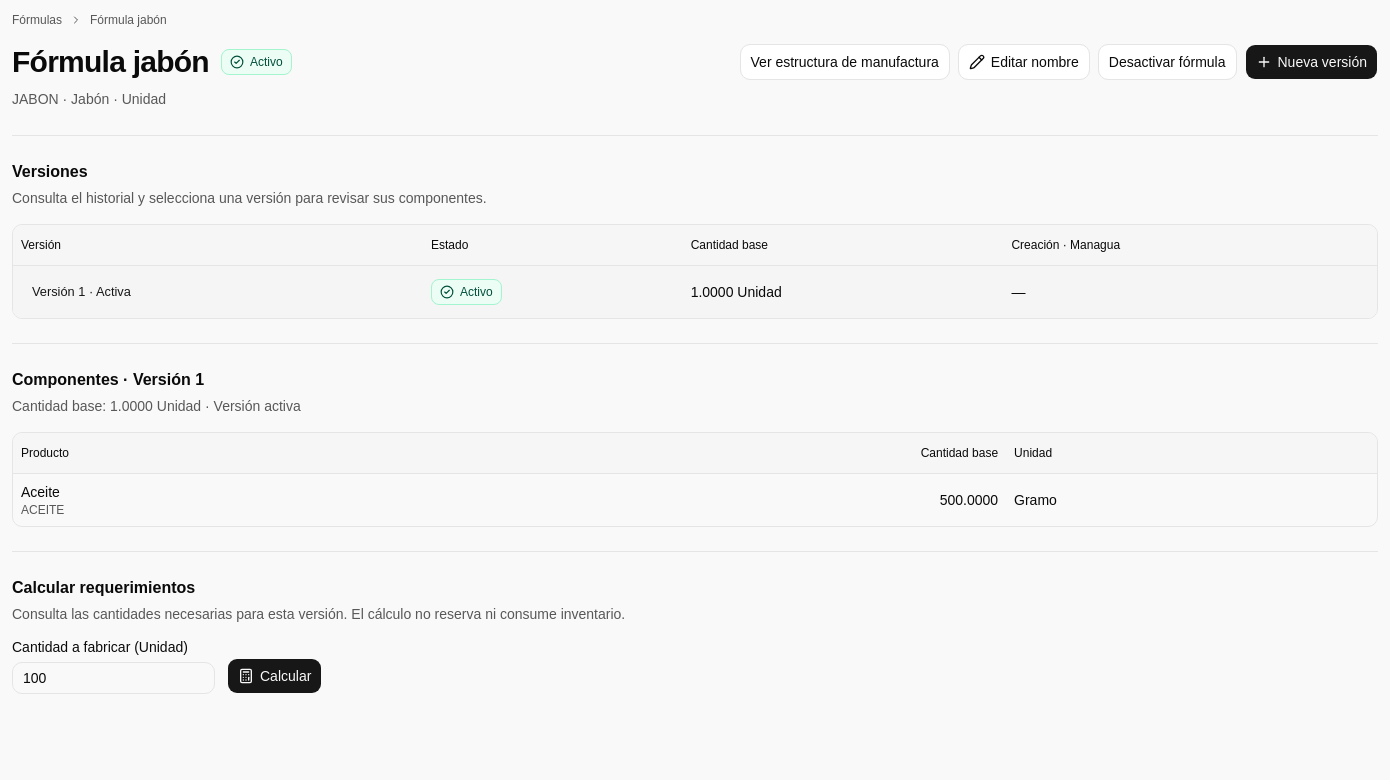
Scenario: Producción: fórmulas y versiones › impide enviar decimales inválidos y conserva los campos del formulario
Check: the heading "Fórmula jabón" is shown, box 12,44 -> 209,80
Replace the text in the field labelled "Cantidad a fabricar (Unidad)" with "0.00001". click: (114, 678)
box: 12,662 -> 215,694
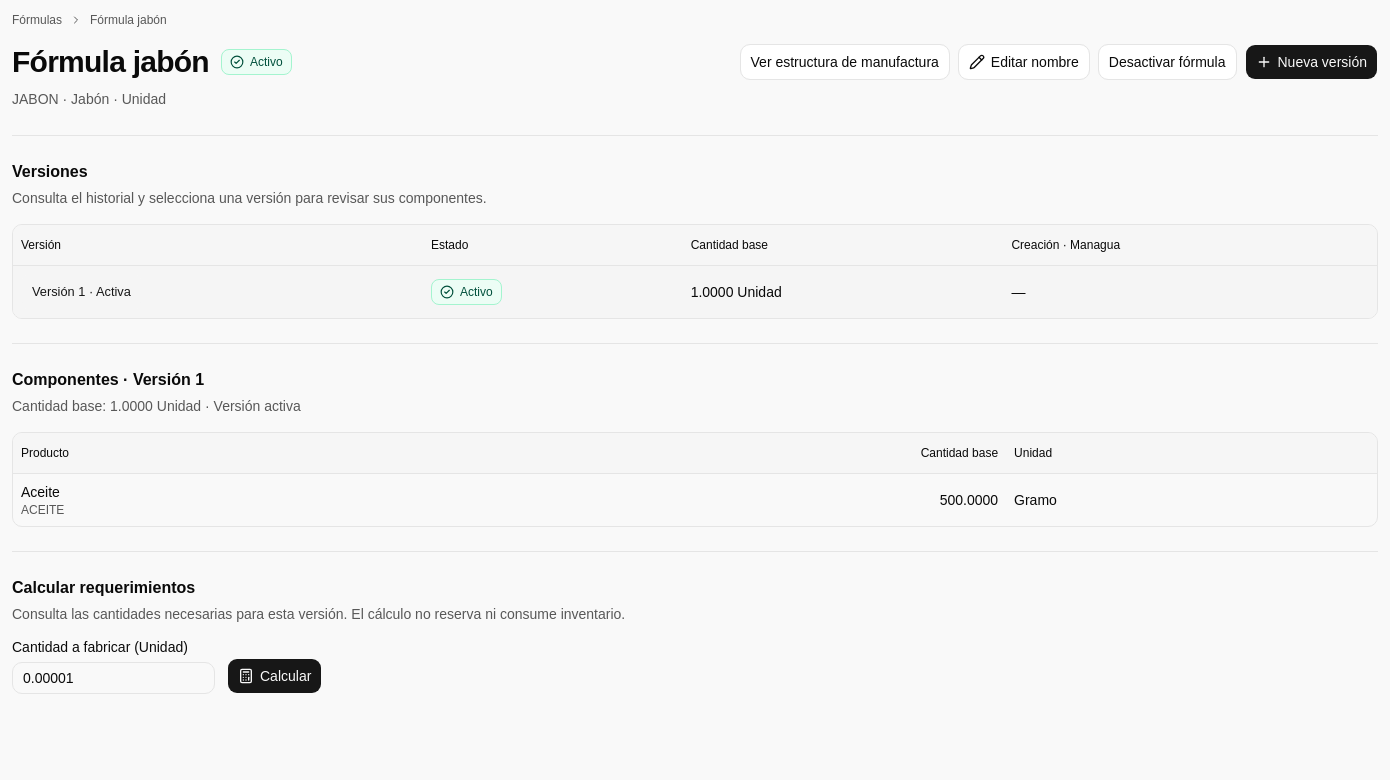
Click the button "Calcular". click: (275, 676)
box: 227,658 -> 322,694
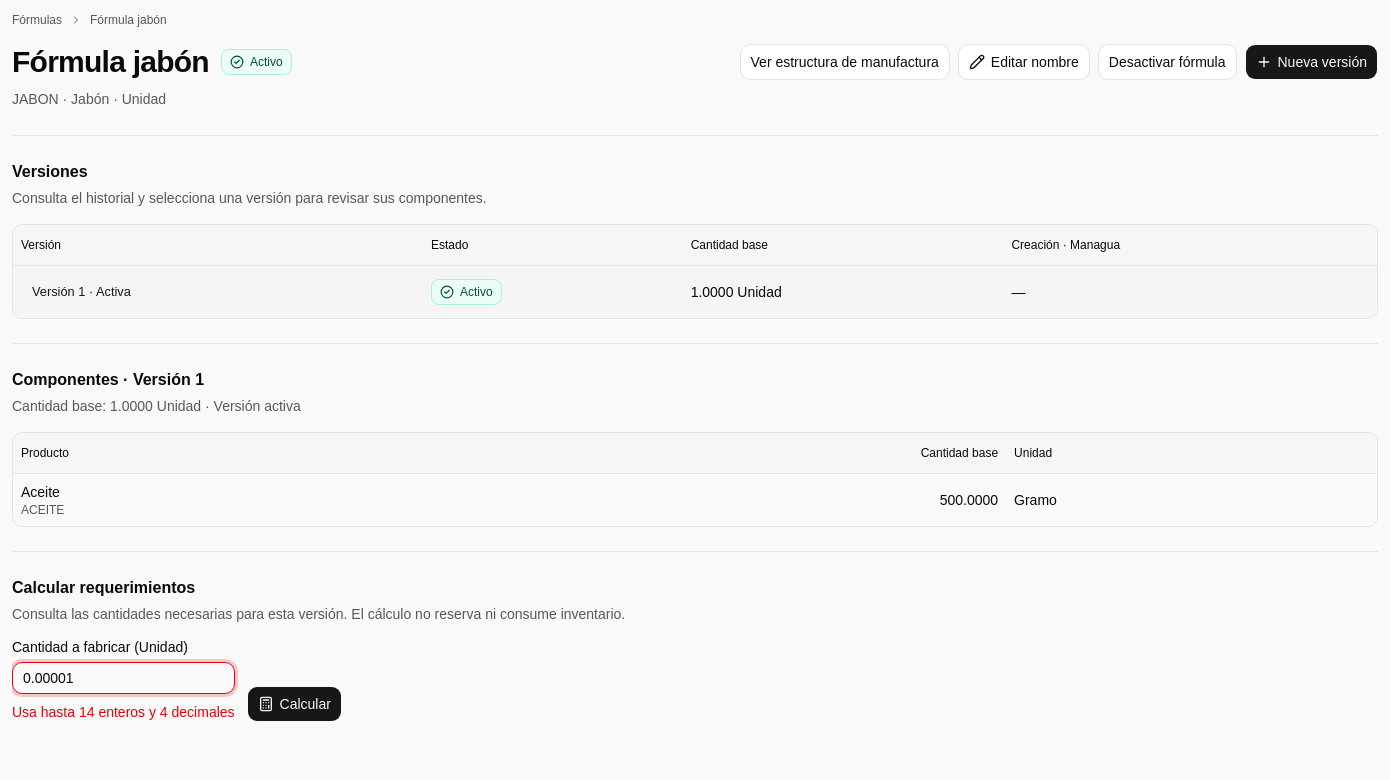
Check: the text "Usa hasta 14 enteros y 4 decimales" is shown, box 12,702 -> 235,722
